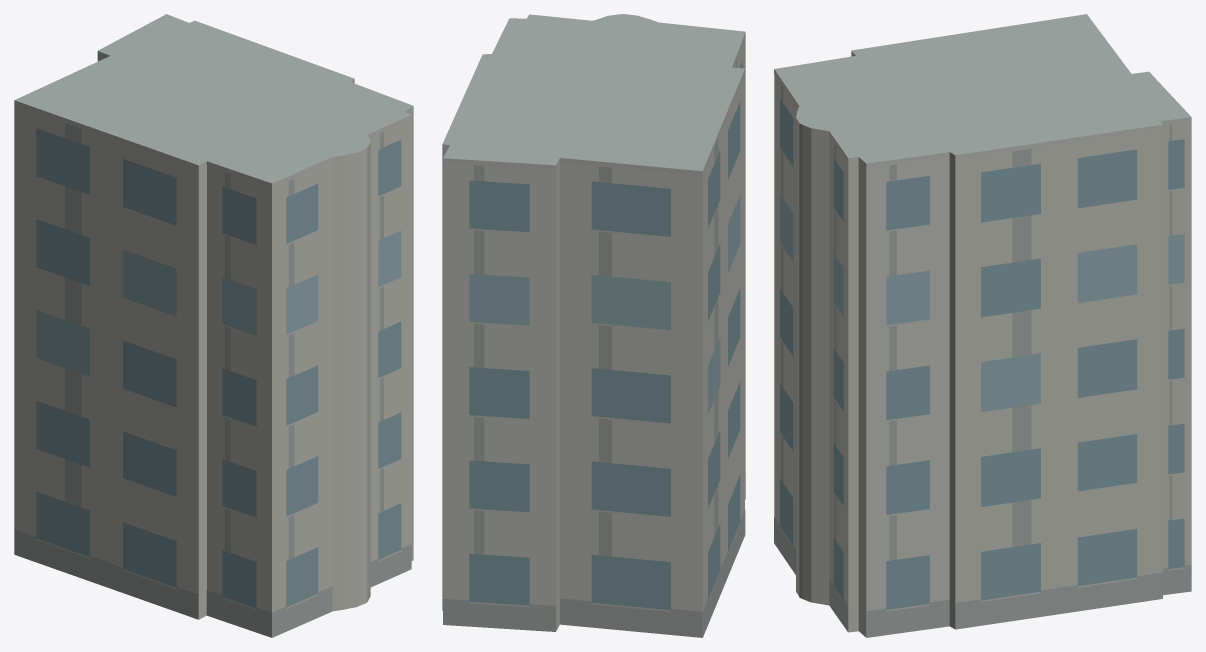
File: survey-upis-32941633.glb
The picture shows the model from 3 angles, left to right: view 1: azimuth 30°, elevation 25°; view 2: azimuth 150°, elevation 25°; view 3: azimuth 270°, elevation 25°; orthographic projection. The views are drawn at different scales.
Visible parts, largest first — view 1: survey-upis-32941633.tmp; view 2: survey-upis-32941633.tmp; view 3: survey-upis-32941633.tmp.
Boxes of the visible parts, bbox=[...] form: survey-upis-32941633.tmp: bbox=[14, 14, 413, 637]; survey-upis-32941633.tmp: bbox=[442, 14, 745, 637]; survey-upis-32941633.tmp: bbox=[774, 14, 1191, 637].
Bounding box in the file's own units: 15.88 × 23.45 × 18.72.
